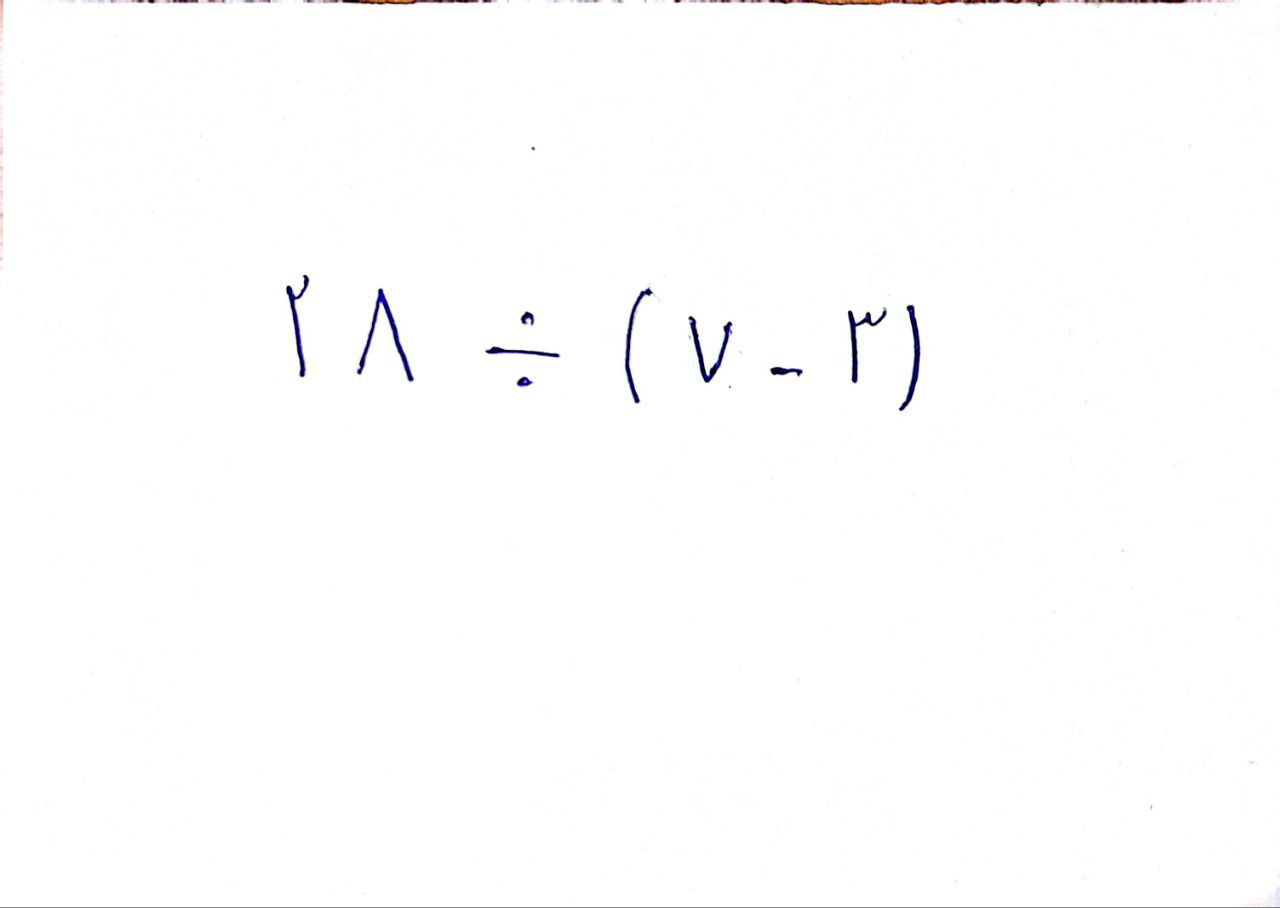character: (352, 287, 419, 384), (485, 308, 561, 389), (843, 302, 887, 392), (619, 287, 650, 408), (687, 313, 735, 385), (284, 269, 313, 379), (897, 303, 921, 413), (761, 361, 803, 377)
